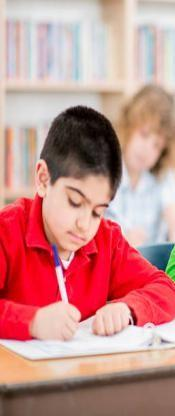good: (0, 101, 175, 364)
